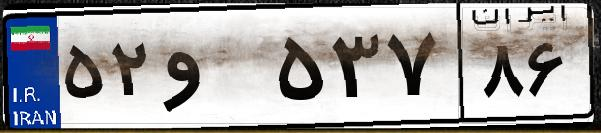2: (110, 28, 158, 98)
3: (330, 28, 385, 110)
5: (270, 28, 330, 110), (57, 26, 110, 100)
6: (525, 38, 570, 115)
7: (385, 28, 445, 110)
8: (475, 38, 525, 113)
و: (158, 20, 270, 120)
